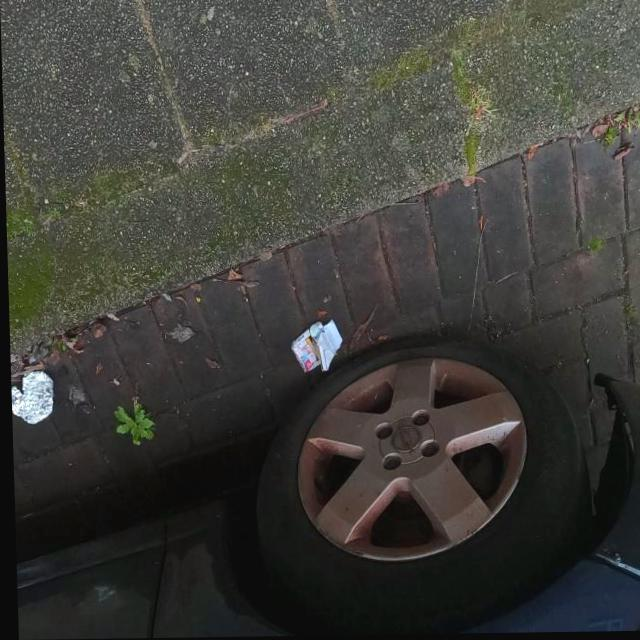Paper: (288, 319, 343, 377)
Plastic: (9, 369, 53, 426)
